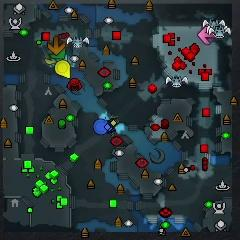p1: (93, 119, 109, 135)
p4: (55, 61, 71, 79)
x1: (198, 24, 215, 45)
x2: (45, 58, 56, 65)
x4: (49, 48, 66, 60)
x5: (47, 36, 65, 55)
